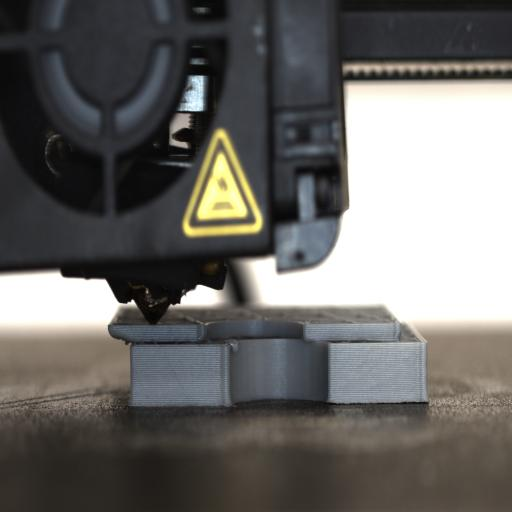layer_shift: (109, 332, 433, 350)
